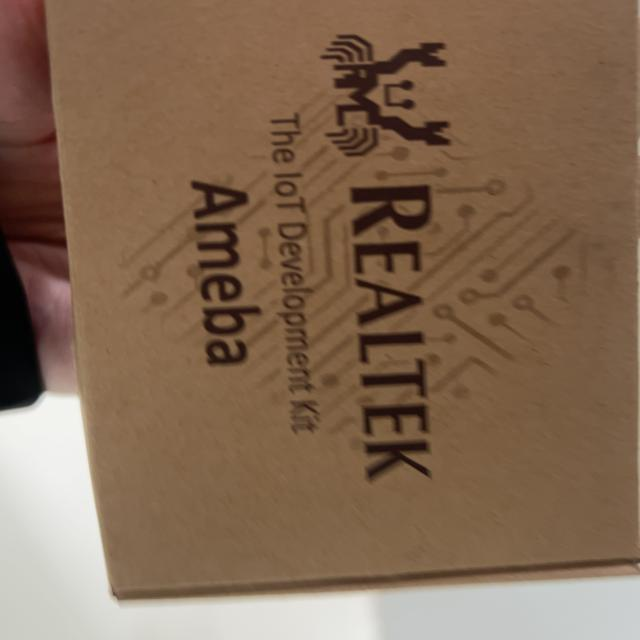box: (44, 0, 613, 615)
